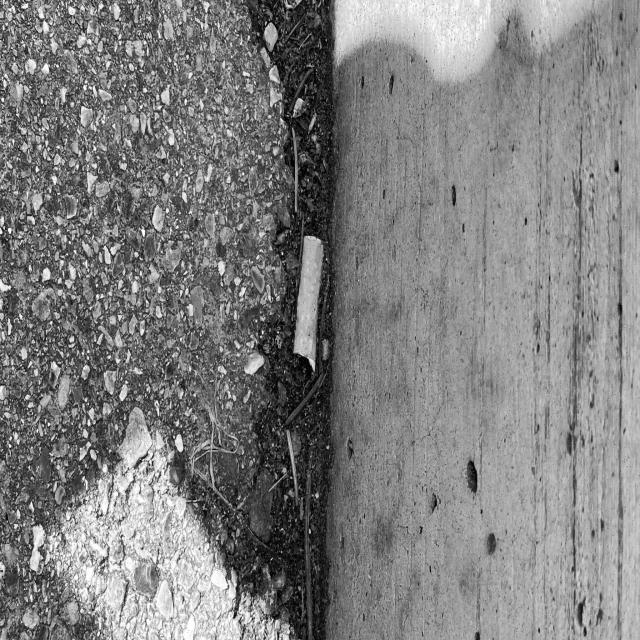other waste: (293, 234, 325, 375)
